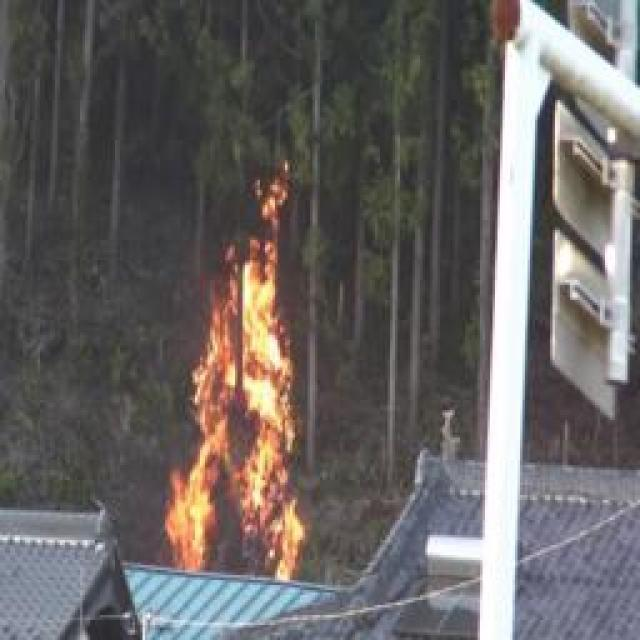Fire: (174, 176, 319, 582)
